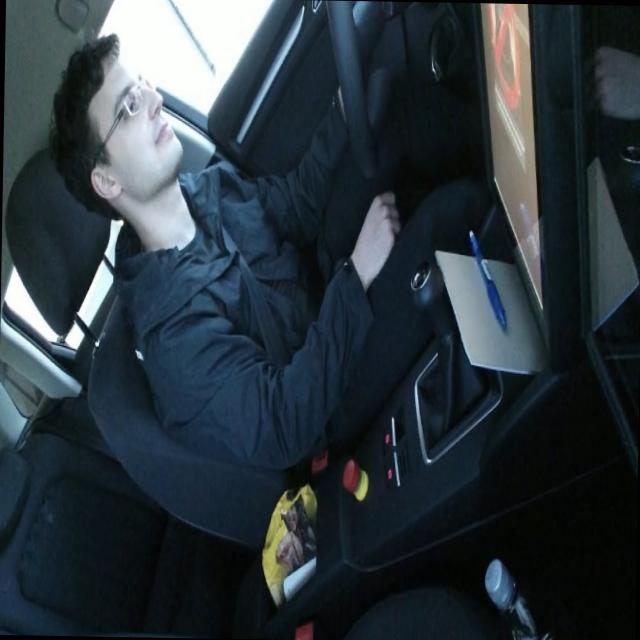pen: (466, 226, 508, 331)
